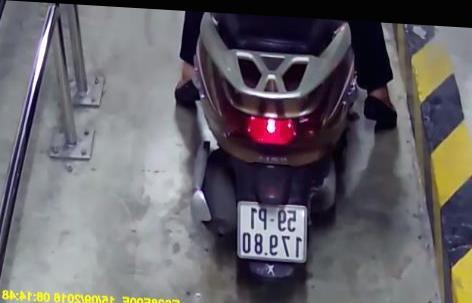License_Plate: (232, 196, 310, 268)
